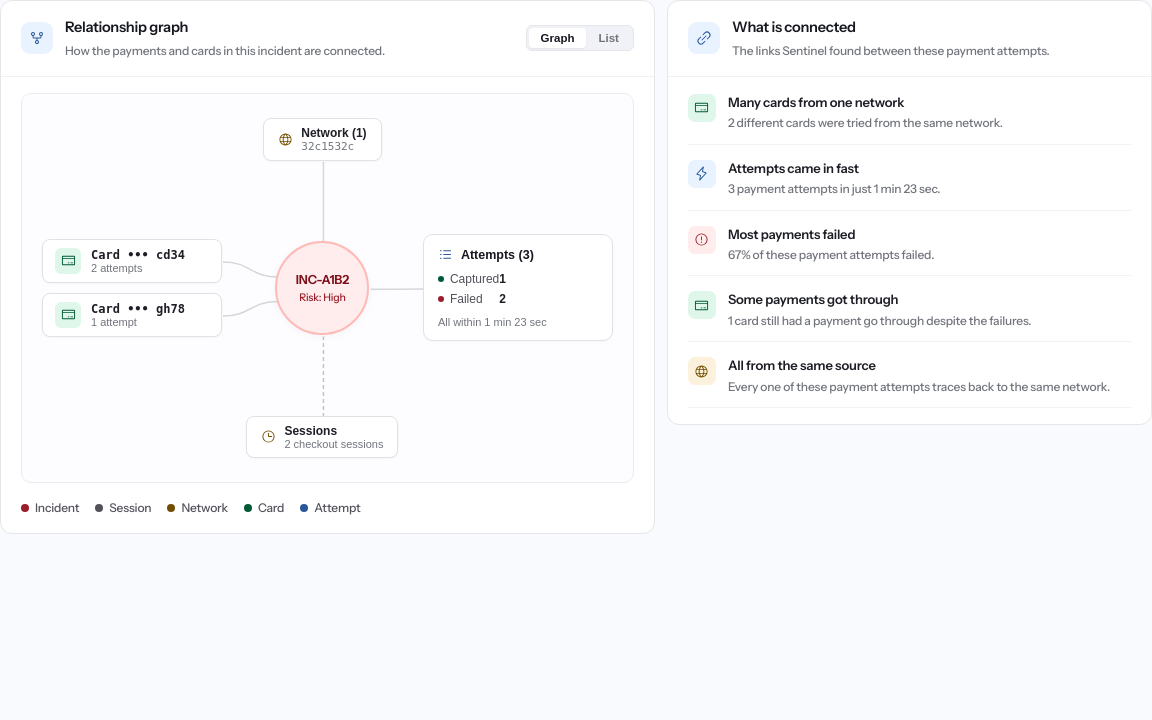
Scenario: RelationshipsTab › toggles to a list view of the same backend data
The image size is (1152, 720).
Click the tab "List": x=609, y=38 [586,28,631,48]
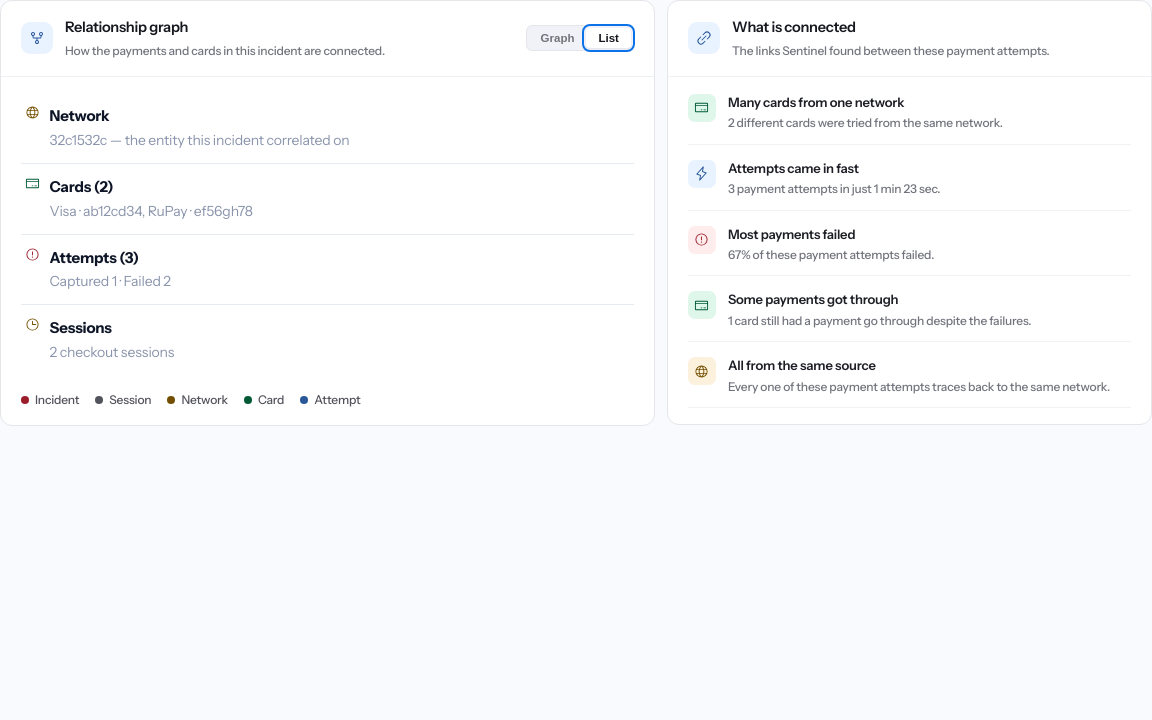
Expected: the text "32c1532c — the entity this incident correlated on" is shown, [50,130,349,151]
